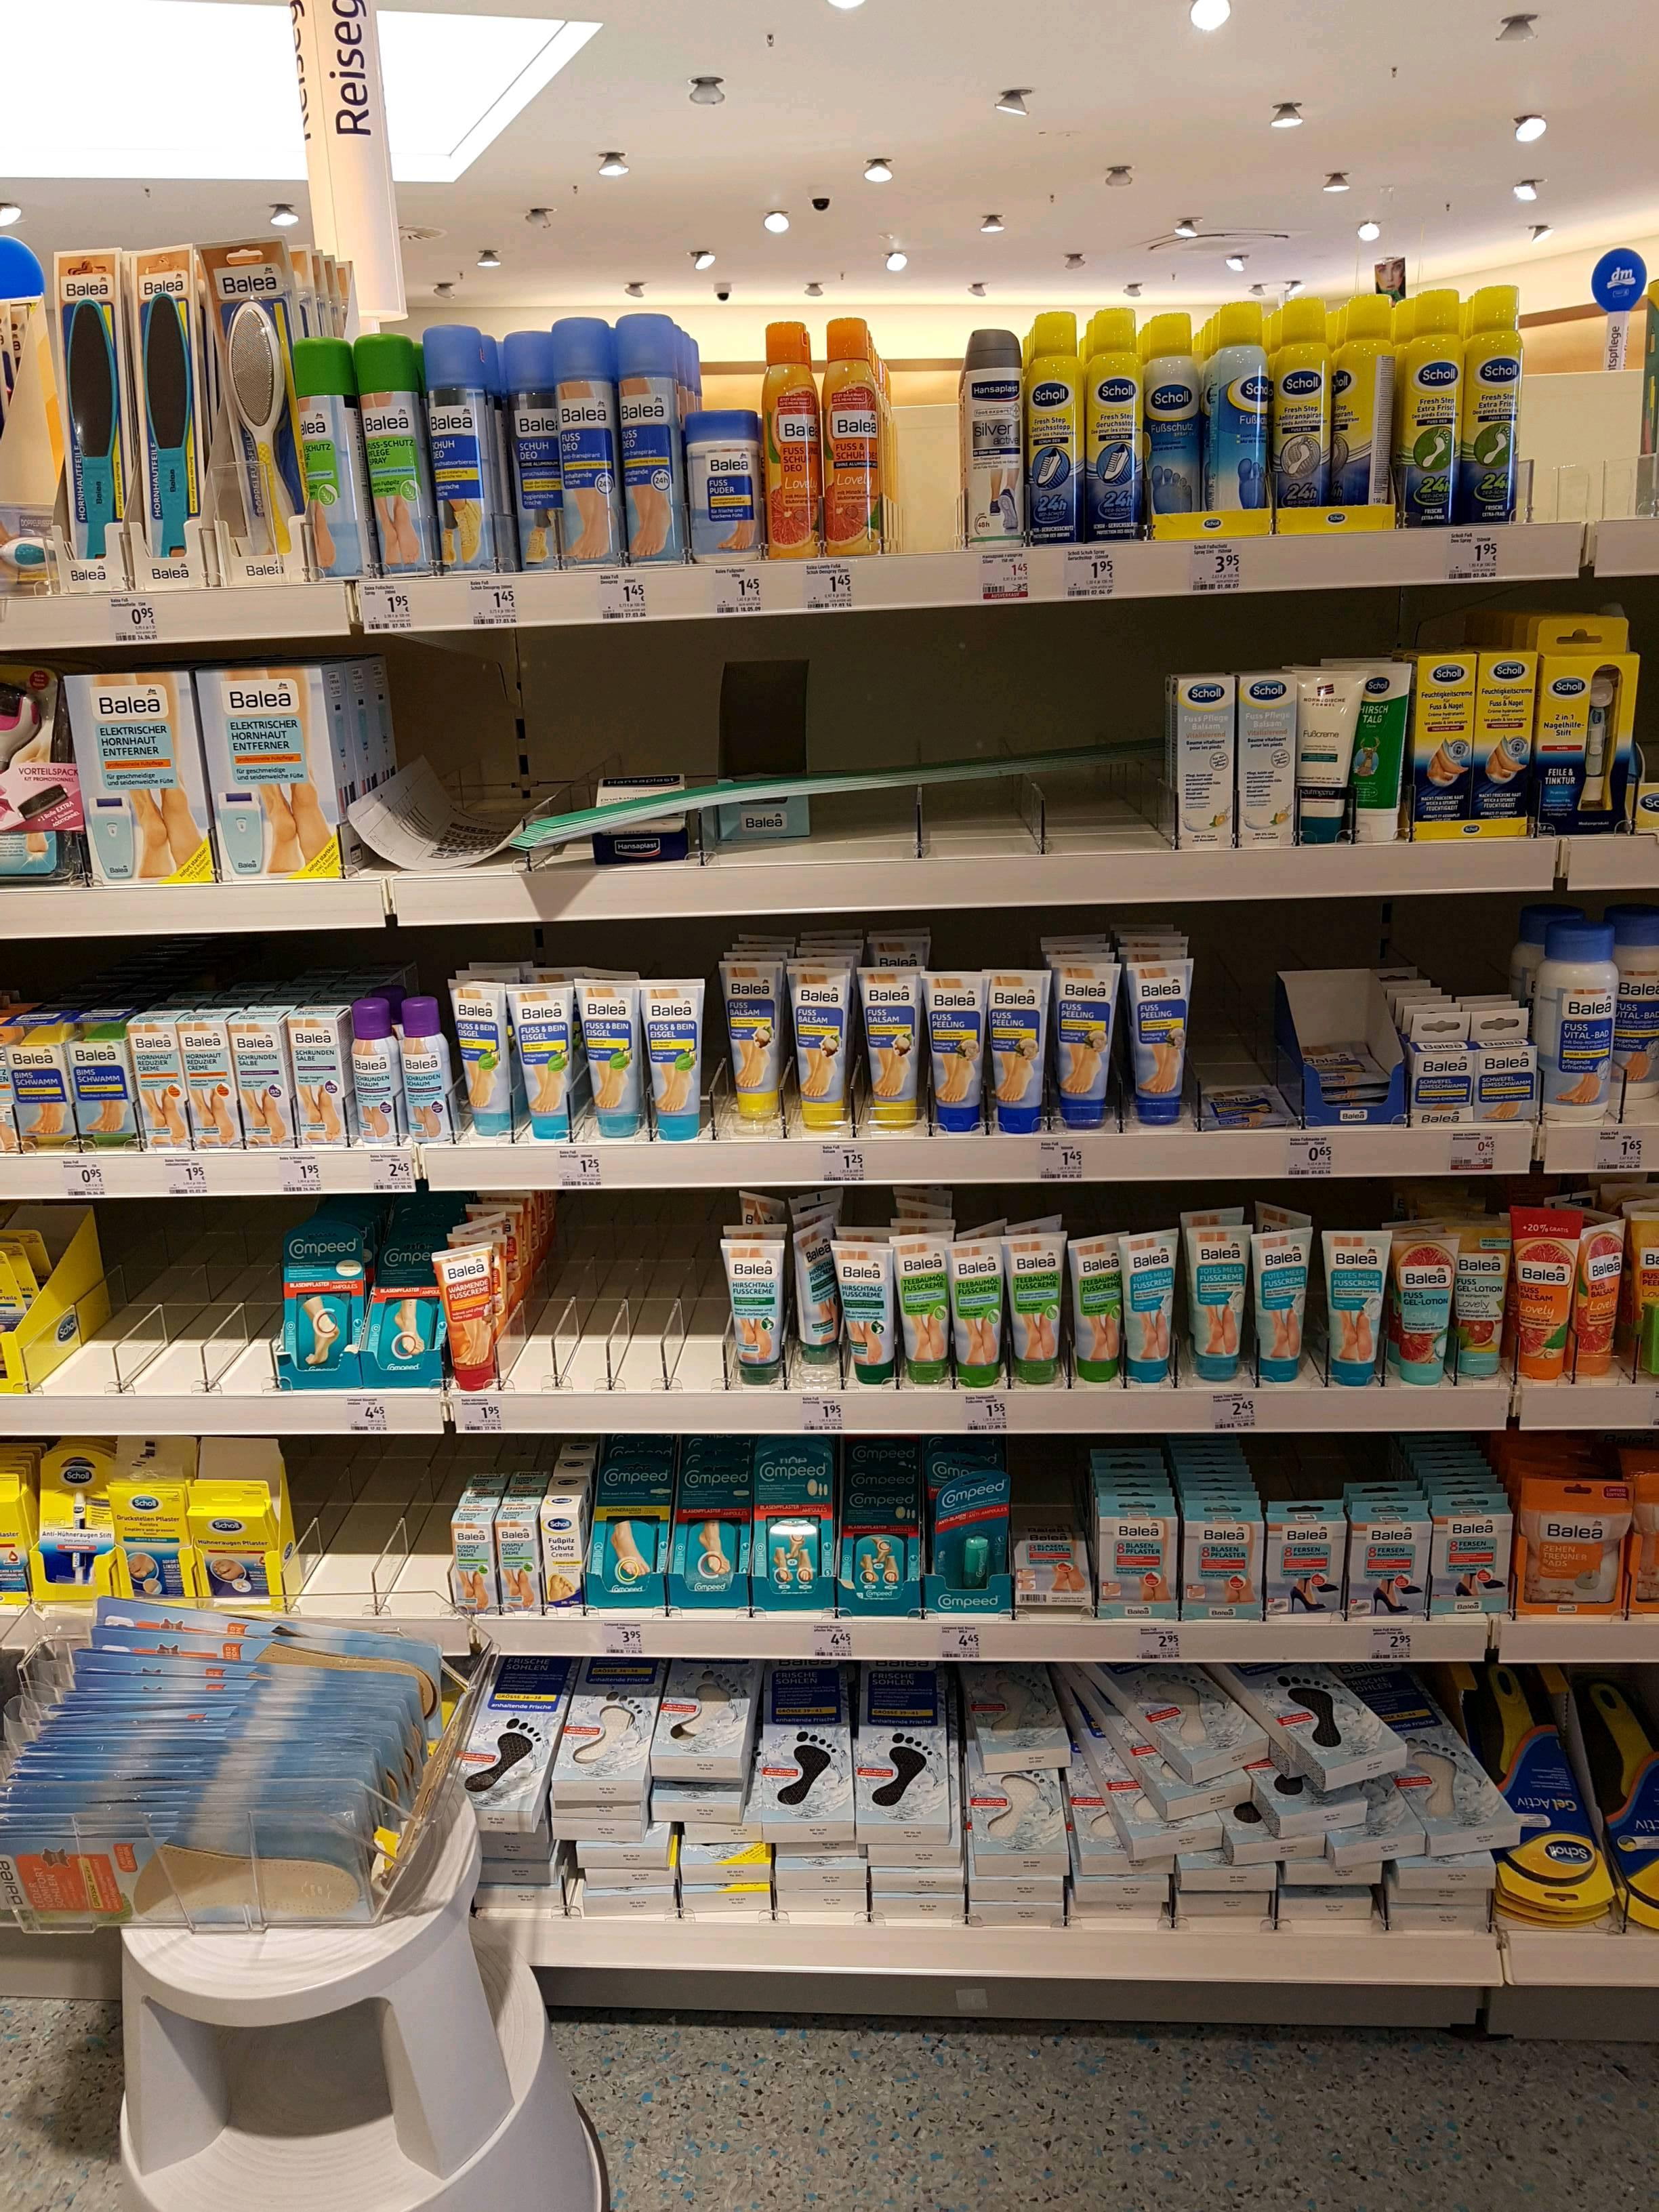empty: (802, 644, 943, 848), (376, 660, 518, 862), (1521, 301, 1652, 517), (1056, 644, 1168, 848), (943, 644, 1053, 848), (890, 334, 972, 543), (68, 1217, 146, 1385), (159, 1223, 237, 1390), (606, 1217, 685, 1385), (514, 1216, 593, 1381), (1206, 944, 1284, 1109), (376, 1449, 455, 1615), (300, 1453, 378, 1618)
